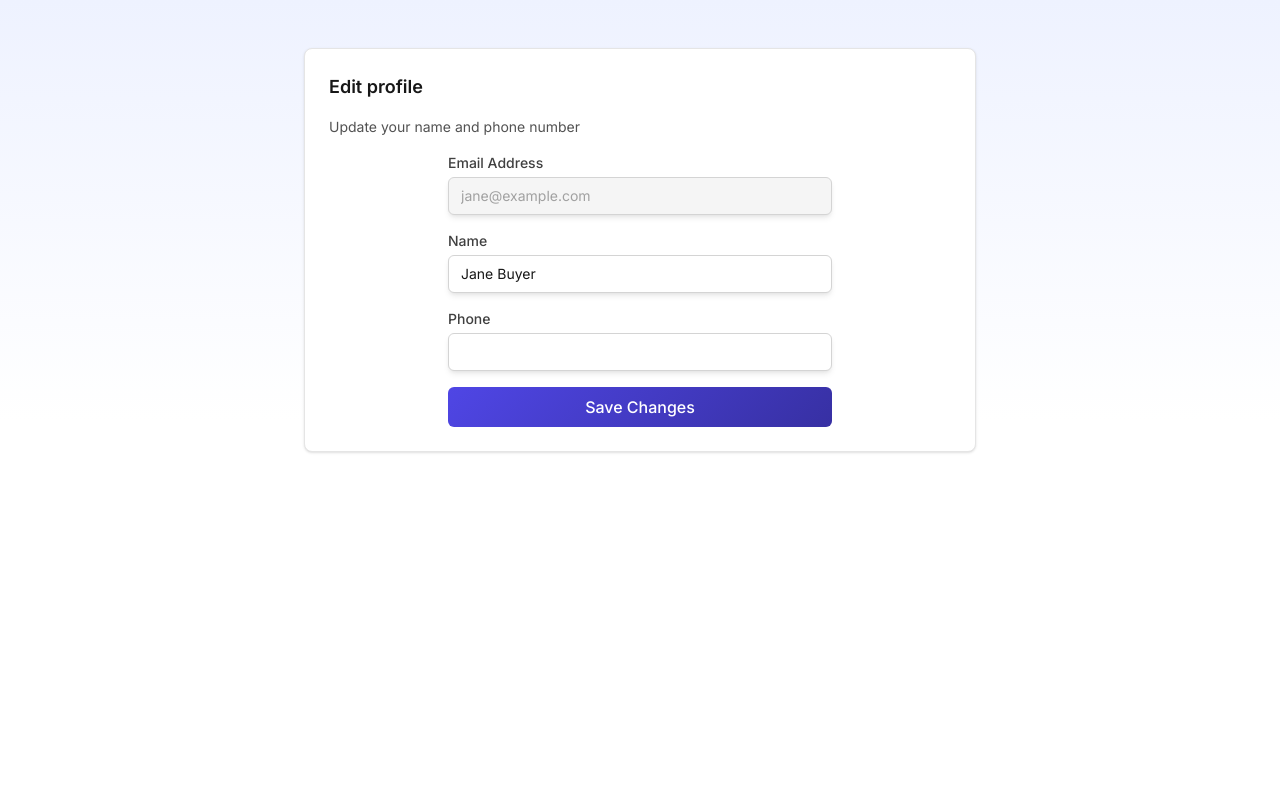
Test case: Profile editing › updates the name and shows a confirmation, re-rendering from the mutation response
Replace the text in the field showing "Jane Buyer" with "Jane B. Updated" at (640,274), box [448,255,832,293]
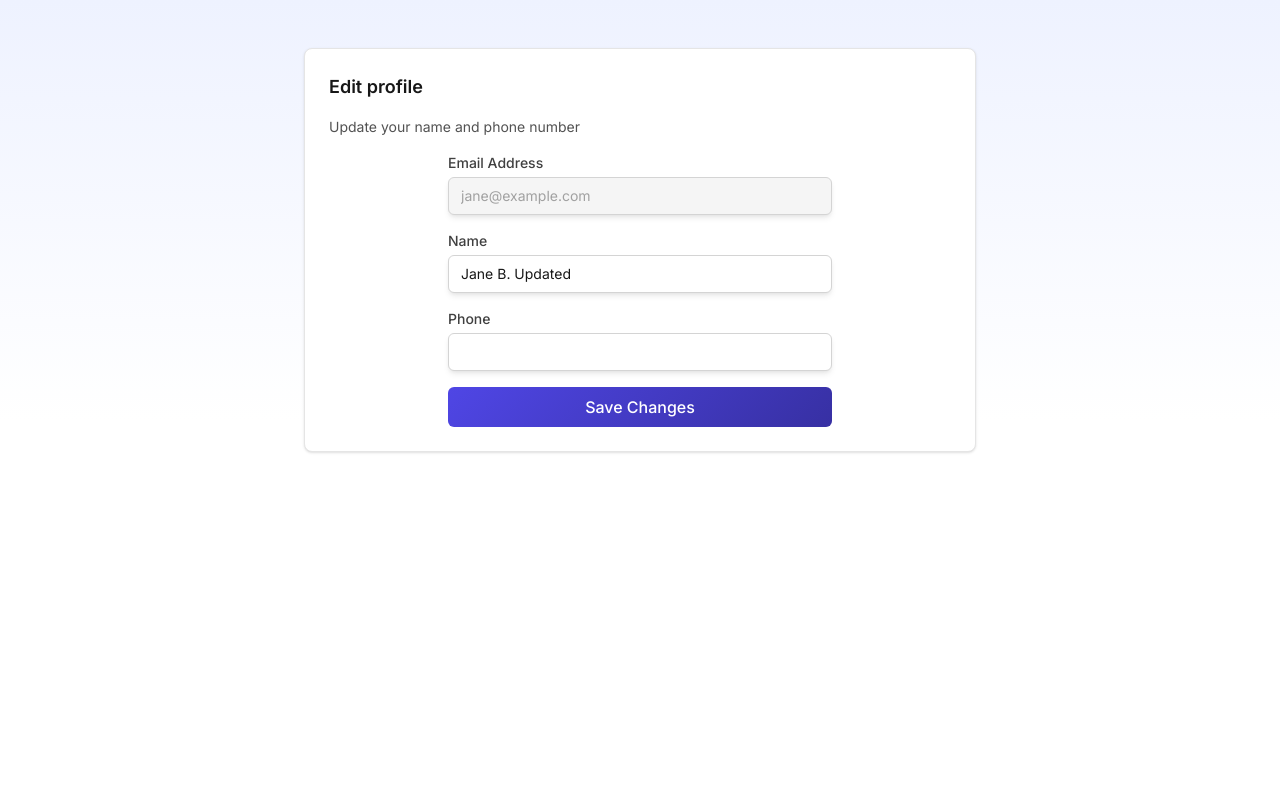
Click the button "Save Changes" at (640,407), box [448,387,832,427]
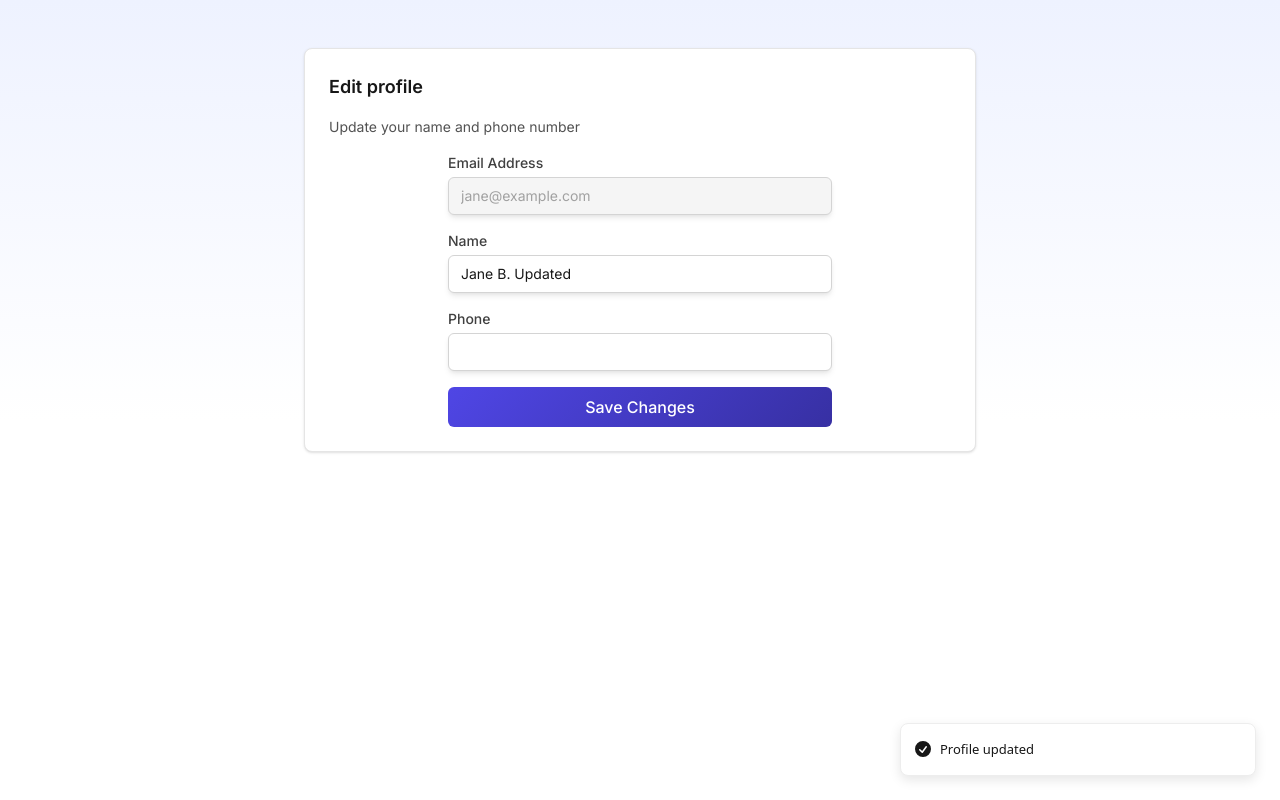
Result: the text "Profile updated" is shown at [940,740,1034,759]
